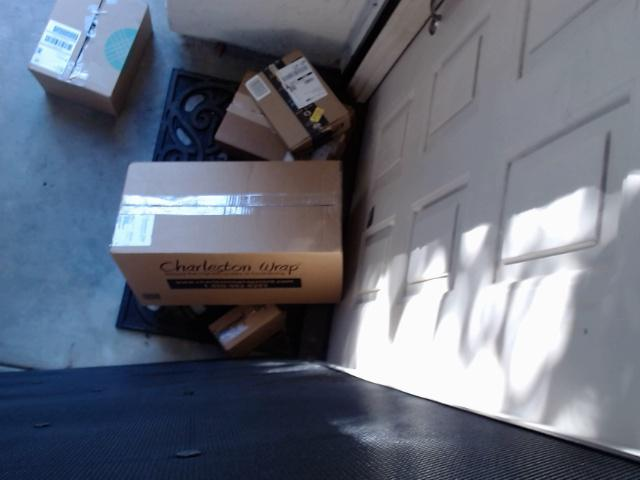box: (99, 146, 381, 328), (210, 41, 350, 165), (30, 0, 183, 113), (238, 56, 355, 157)
